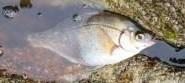fish: (3, 5, 157, 66)
